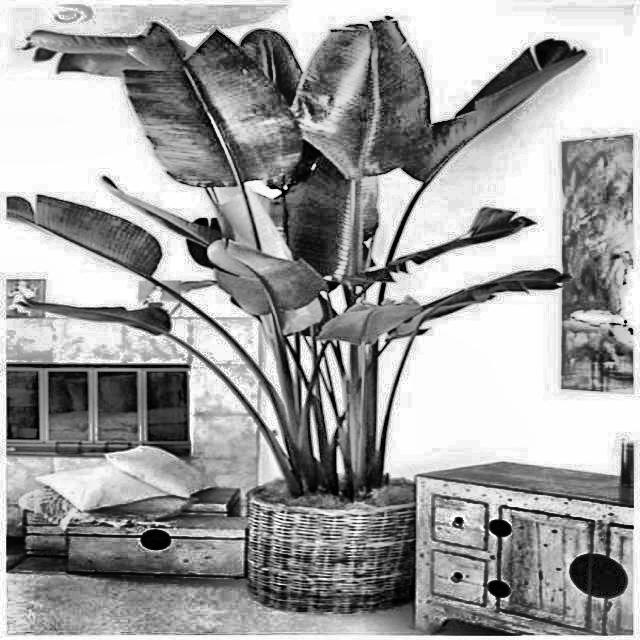plants: (16, 20, 568, 606)
